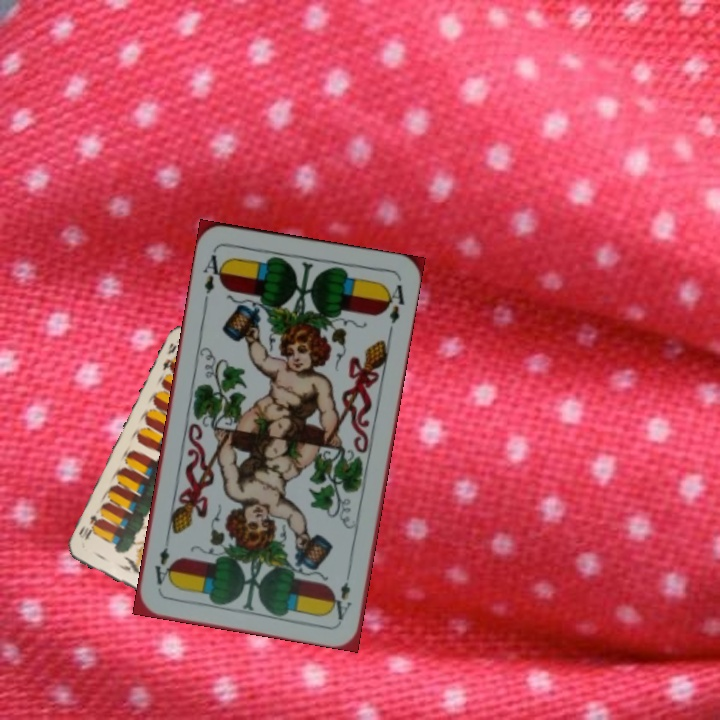E10: (158, 339, 184, 377)
EA: (199, 250, 227, 306), (329, 564, 354, 623)
